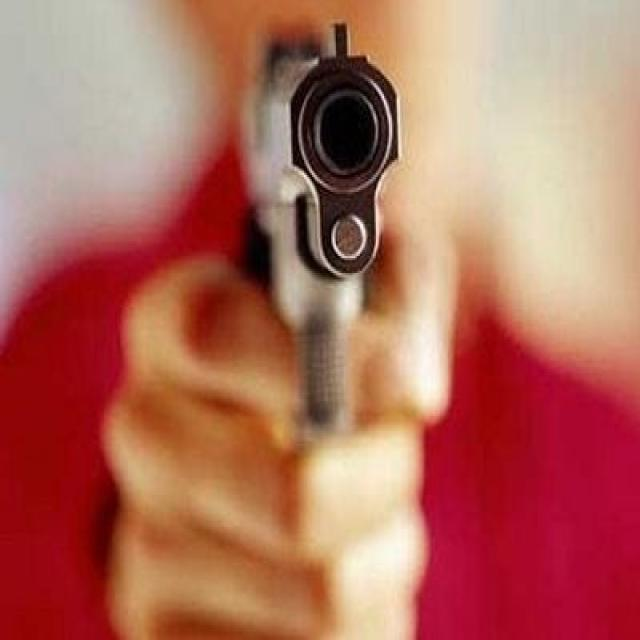HandGun: (246, 26, 402, 437)
